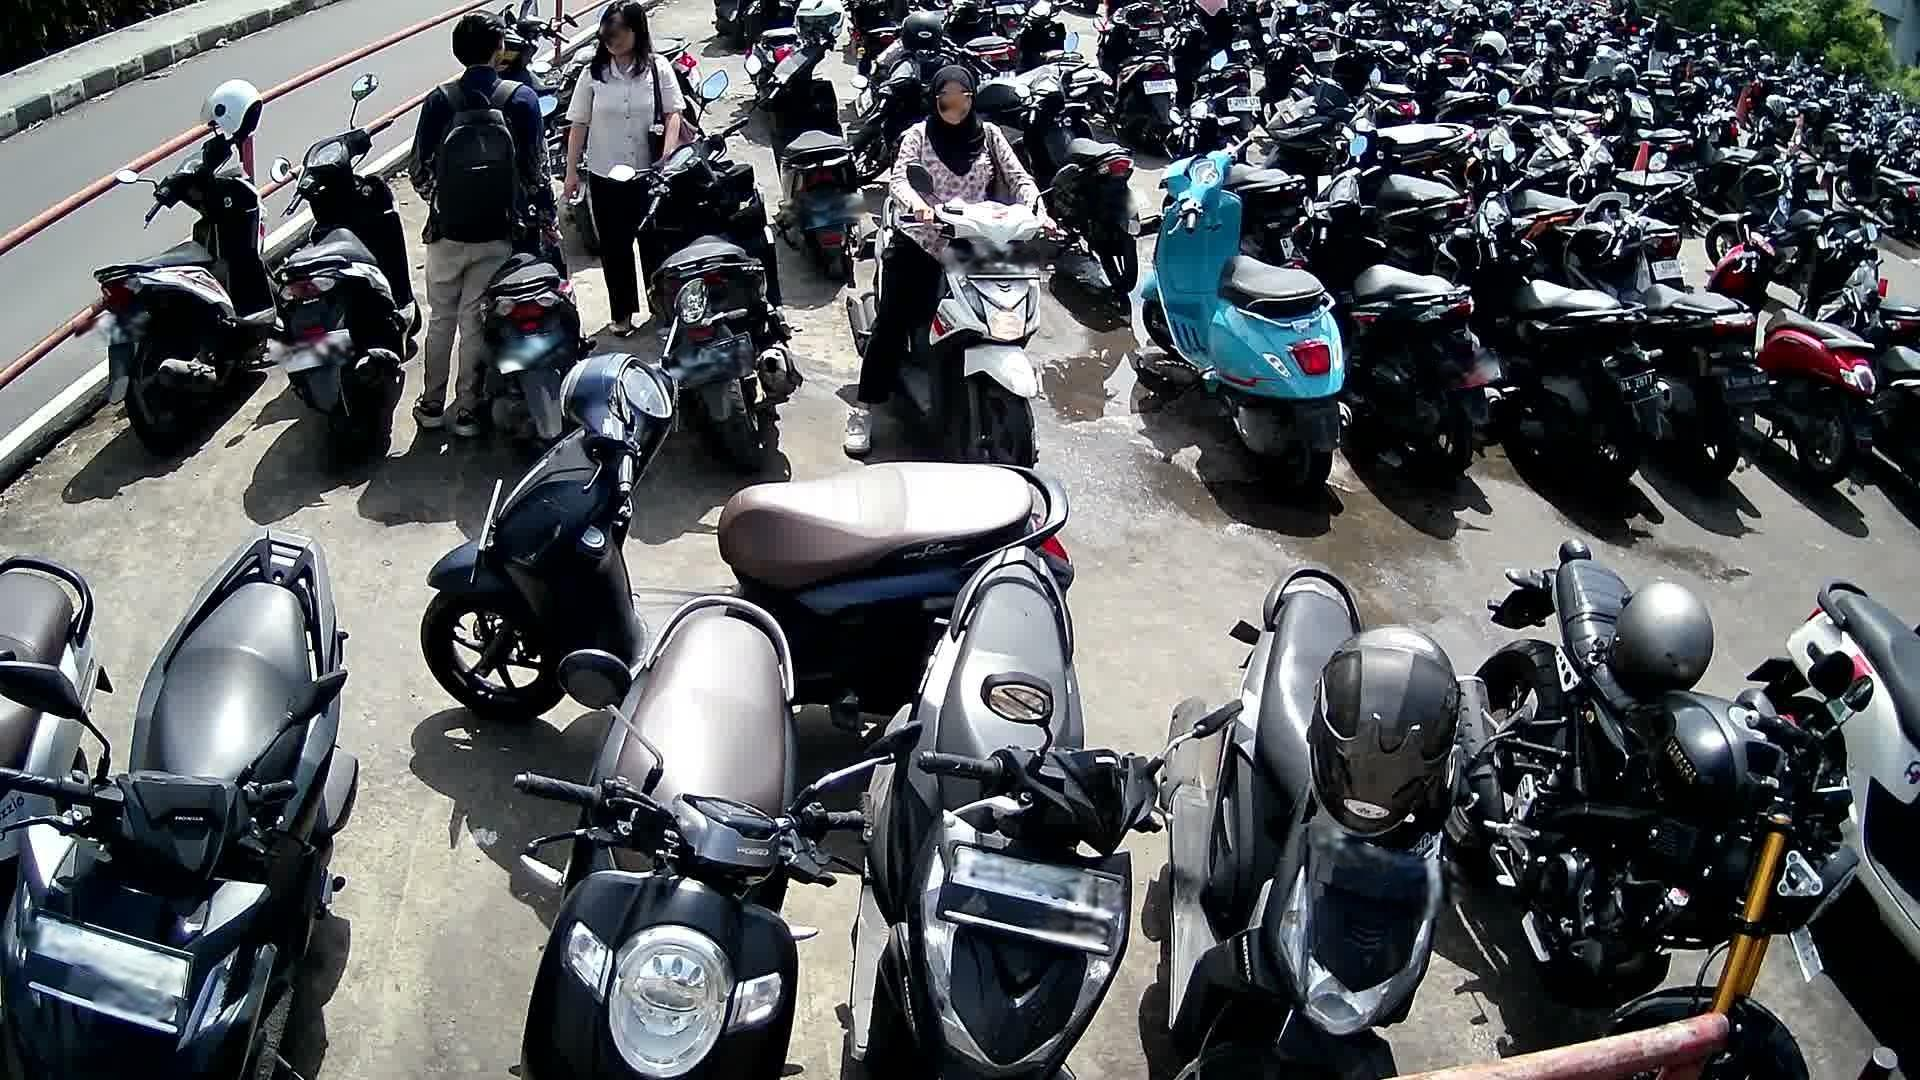motorcycle: (417, 277, 1077, 728), (1456, 538, 1862, 1080), (845, 545, 1221, 1080), (0, 526, 361, 1079), (514, 595, 891, 1080), (1160, 564, 1465, 1080), (608, 71, 808, 479), (1283, 133, 1507, 492), (1429, 177, 1679, 498), (1139, 136, 1353, 509), (844, 161, 1076, 465), (1549, 190, 1775, 493), (1747, 576, 1920, 965), (261, 74, 423, 476), (94, 125, 272, 460), (0, 554, 113, 1019), (1698, 212, 1882, 491), (479, 231, 583, 462)
